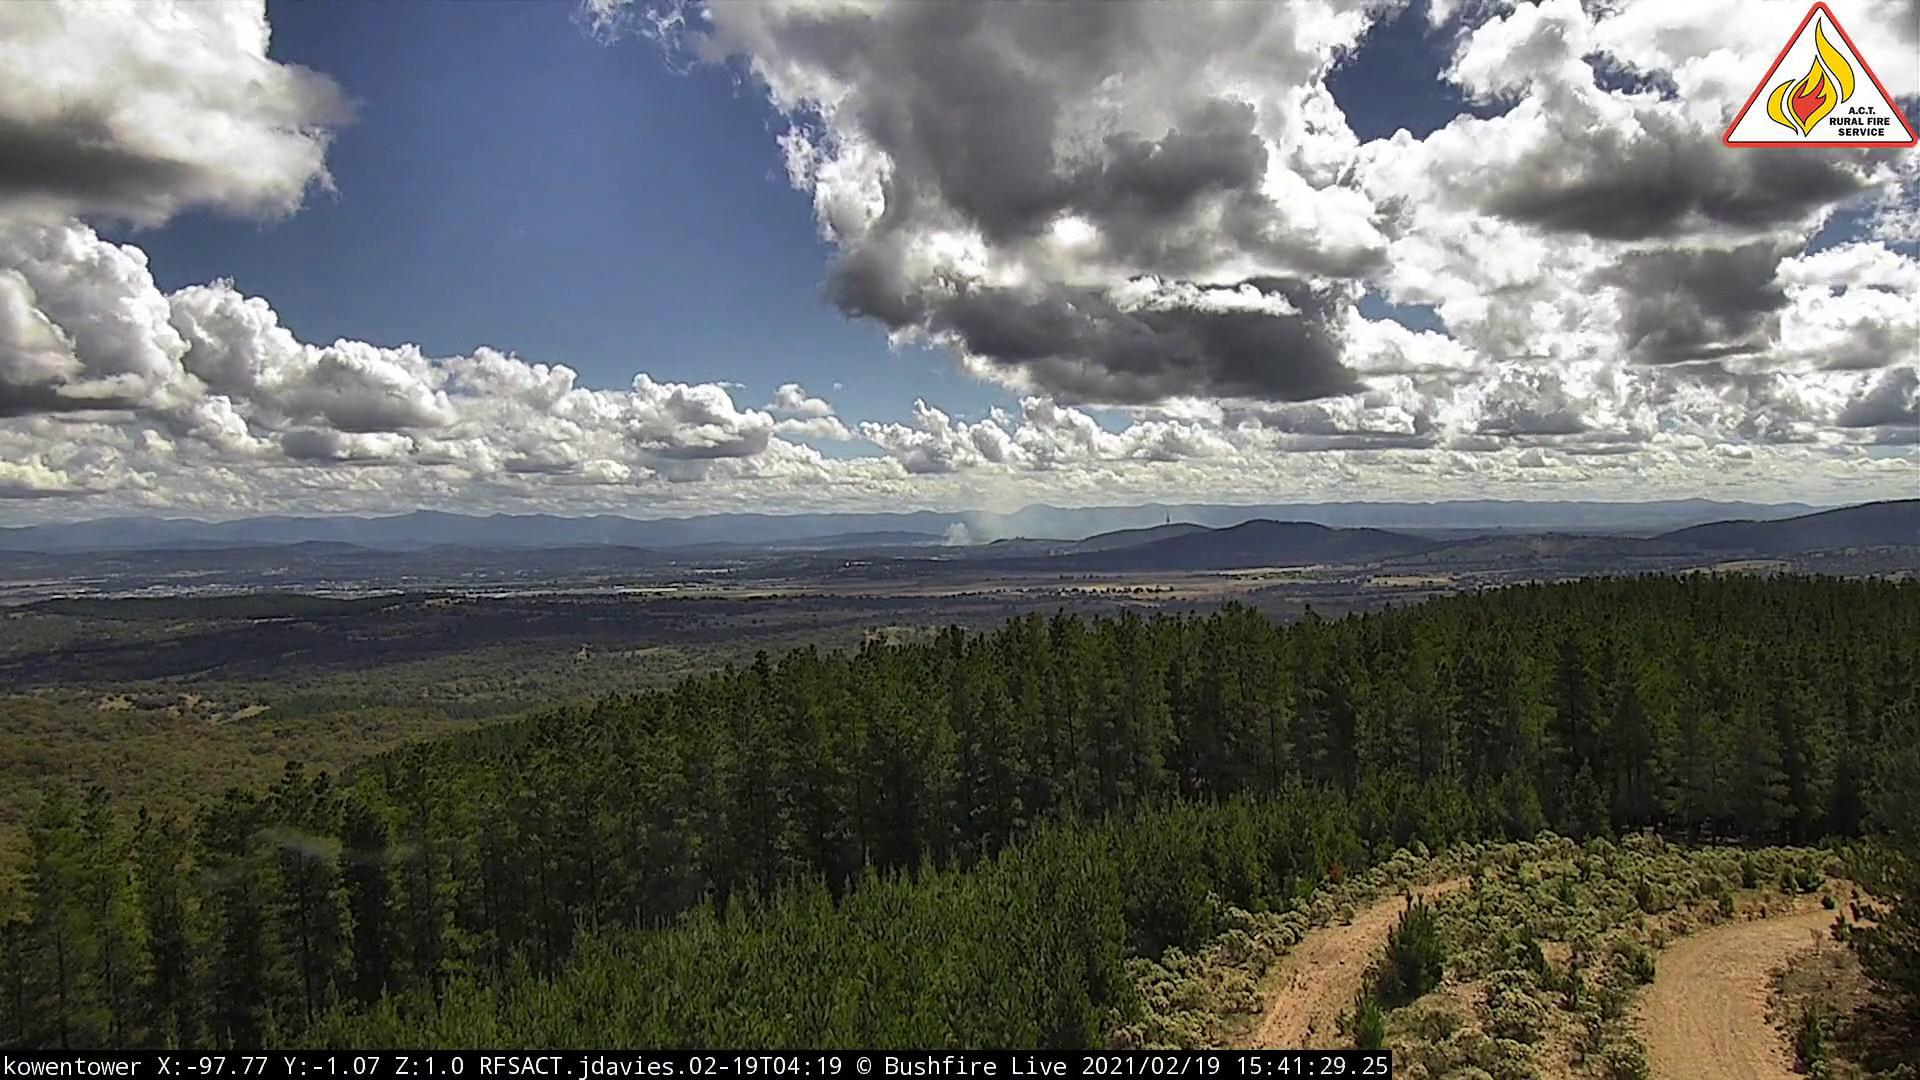Smoke: (943, 495, 1035, 550), (605, 531, 625, 556)
